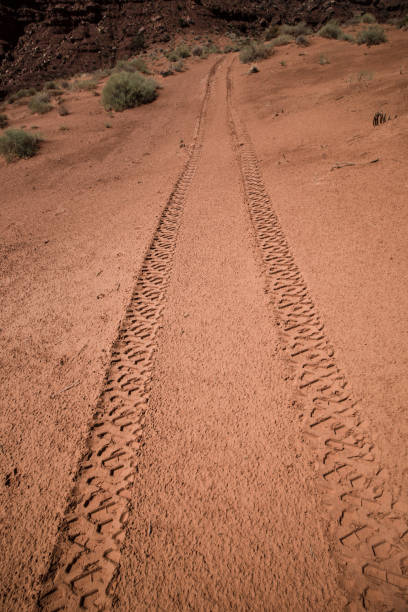vehicle_track: (38, 60, 220, 611), (227, 65, 407, 611)
